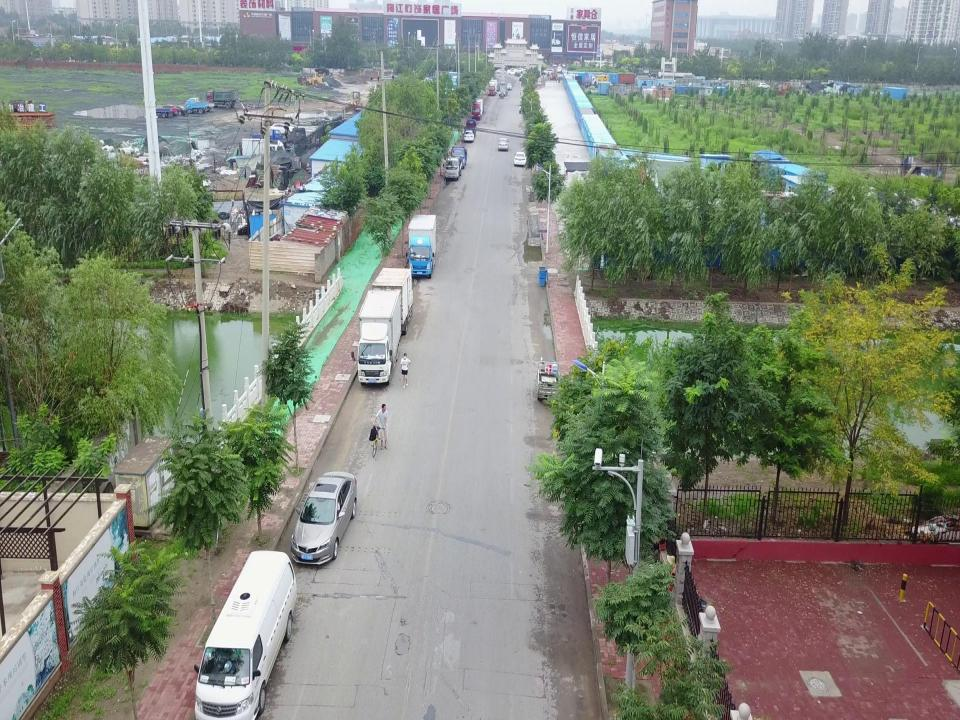car: (290, 471, 358, 566), (166, 104, 186, 115), (158, 105, 178, 116), (514, 151, 527, 167), (497, 138, 509, 151), (463, 130, 475, 143)
truck: (350, 289, 402, 387), (370, 265, 417, 337), (405, 212, 437, 278), (206, 88, 238, 109), (145, 99, 173, 118), (442, 156, 464, 180), (184, 97, 210, 115), (449, 146, 468, 170), (188, 97, 214, 113), (471, 98, 483, 121), (464, 119, 478, 137)
van: (193, 549, 298, 719)
